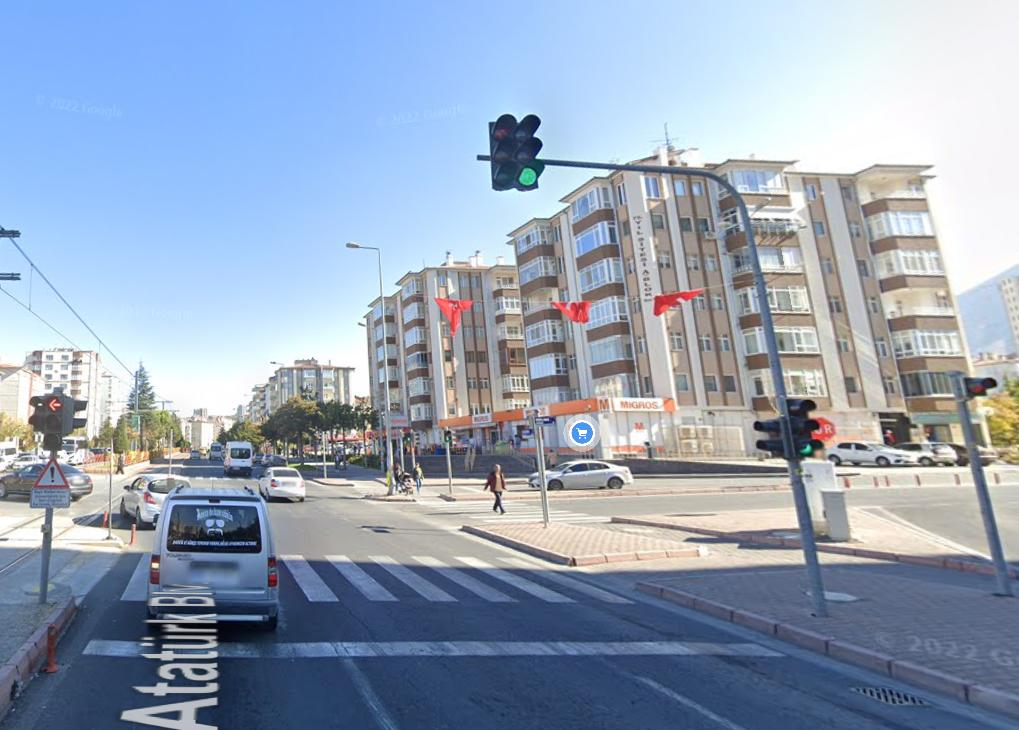greenlight: (786, 388, 822, 458), (516, 112, 543, 190)
redlight: (41, 387, 68, 452)
